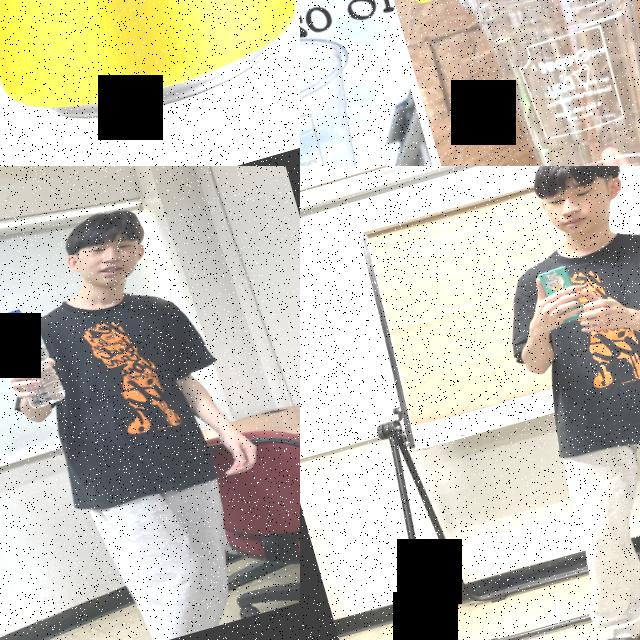bottle: (0, 301, 71, 415)
can: (0, 0, 300, 151)
cup: (454, 0, 640, 166), (300, 17, 414, 166)
